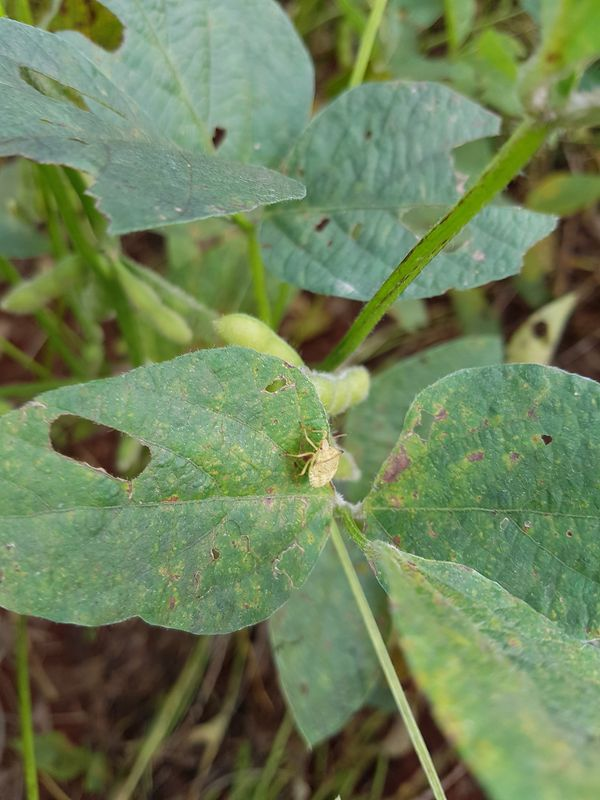Euschistus_heros_ninfa: (280, 416, 363, 494)
